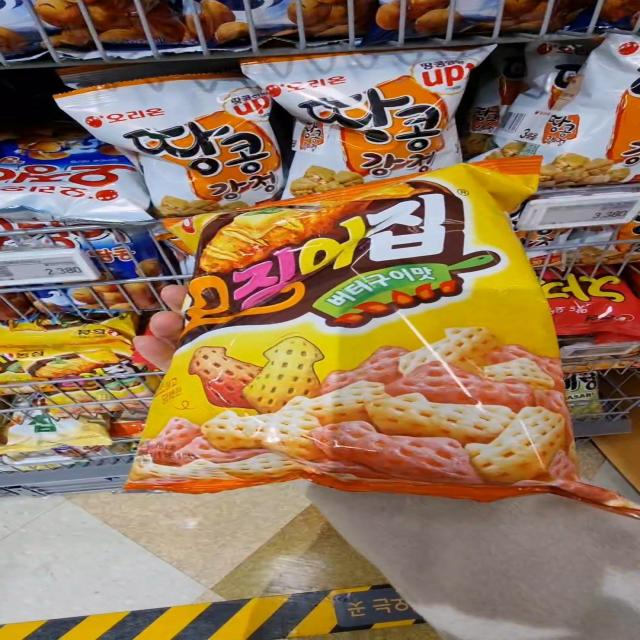ozingZip: (164, 182, 545, 462)
